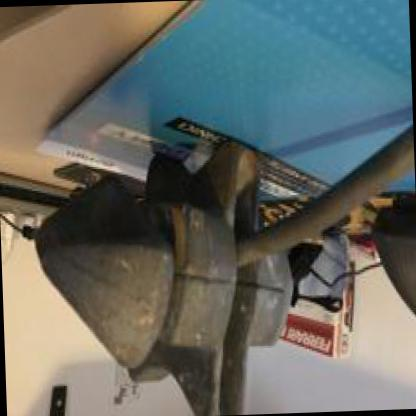Twistlock: (15, 111, 415, 415)
